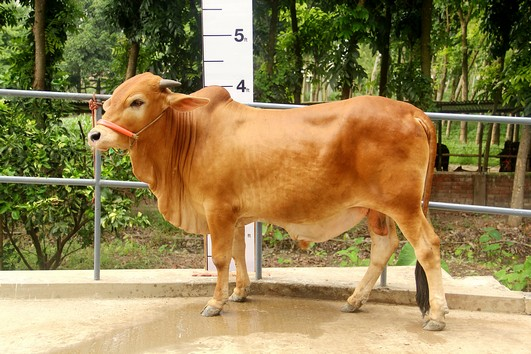cow: (83, 66, 454, 333)
